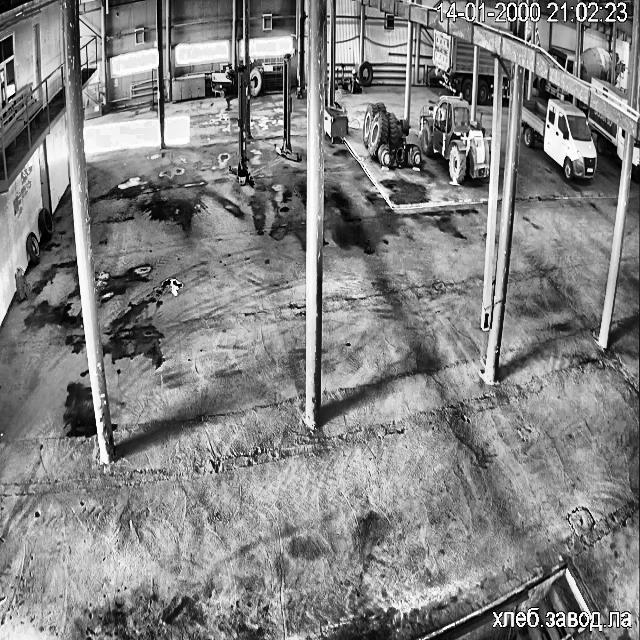class6: (420, 96, 489, 182), (362, 102, 420, 166)
class7: (521, 100, 596, 180), (432, 28, 473, 100), (588, 108, 624, 158), (580, 46, 620, 82), (477, 49, 494, 102), (592, 78, 628, 102), (537, 77, 572, 100), (548, 46, 574, 73), (632, 140, 640, 177), (500, 78, 508, 96), (504, 60, 510, 75)
tractor: (16, 268, 25, 300)
truck: (229, 66, 252, 185), (275, 52, 298, 161)
